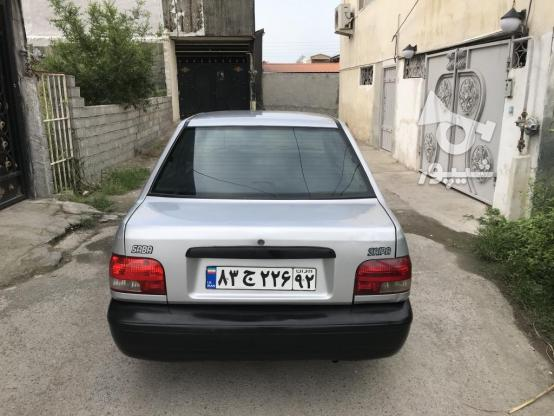car: (205, 265, 317, 289)
